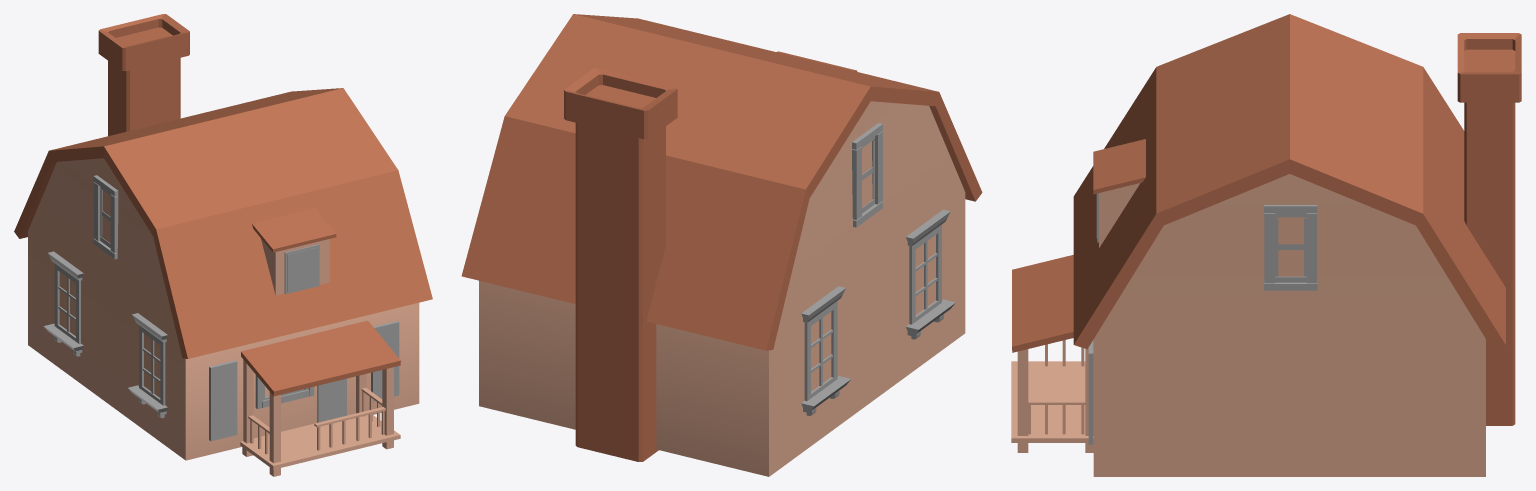
The model's file is FarmHouse_Low.fbx.
The picture shows the model from 3 angles, left to right: view 1: azimuth 30°, elevation 25°; view 2: azimuth 150°, elevation 25°; view 3: azimuth 270°, elevation 25°; orthographic projection. The views are drawn at different scales.
Parts seen in each view (by area): view 1: polySurface62, Shutter3; view 2: polySurface62, Shutter3; view 3: Shutter3, polySurface62.
Part boxes in pixels (box(x1,y1,x2,y2)): polySurface62: box(14, 14, 432, 469); Shutter3: box(28, 158, 419, 476); polySurface62: box(461, 14, 982, 461); Shutter3: box(479, 101, 965, 476); Shutter3: box(1017, 174, 1485, 476); polySurface62: box(1011, 14, 1521, 442).
Bounding box in the file's own units: 24.94 × 27.86 × 35.48.
